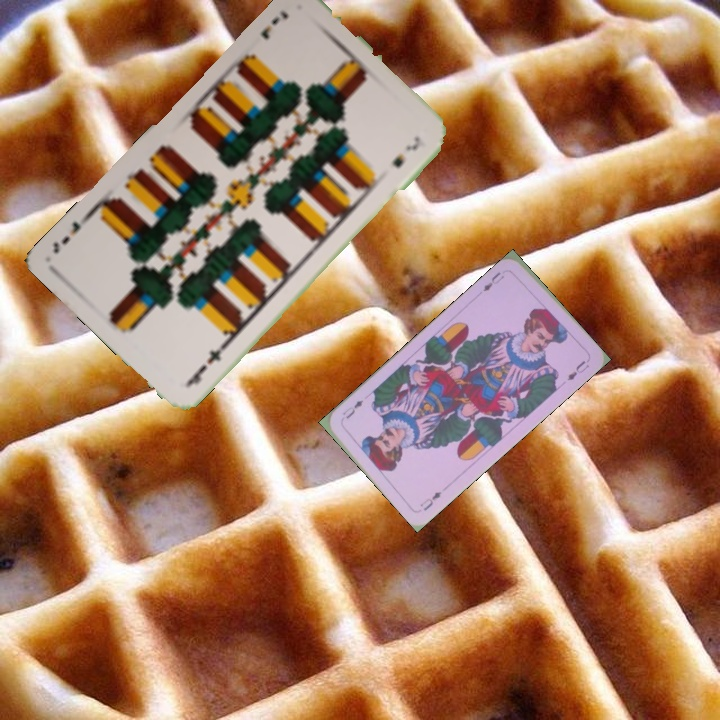E7: (183, 340, 229, 389), (256, 6, 291, 42)
EU: (416, 487, 444, 514), (479, 268, 507, 294)
